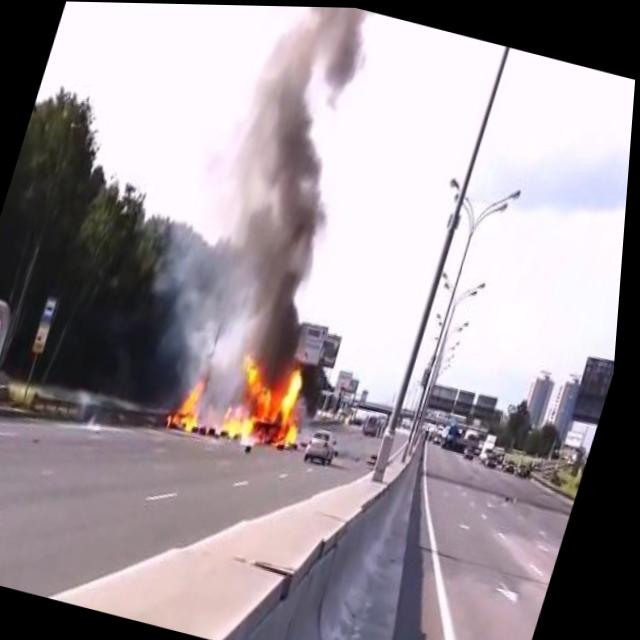fire: (213, 342, 328, 458), (166, 366, 221, 440)
